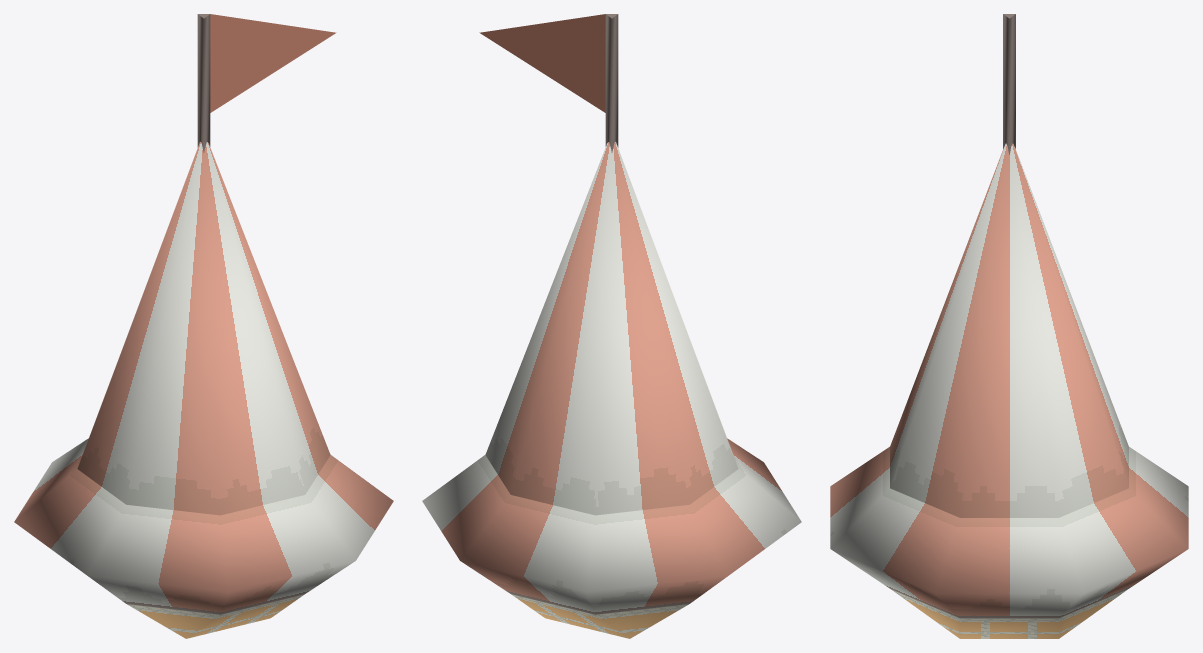
File: 0448_Flag_Buoy.glb
3 renders of one model, left to right at view 1: azimuth 30°, elevation 25°; view 2: azimuth 150°, elevation 25°; view 3: azimuth 270°, elevation 25°, orthographic.
Parts seen in each view (by area): view 1: part_0; view 2: part_0; view 3: part_0.
Part boxes in pixels (bbox=[...]): part_0: bbox=[14, 14, 393, 638]; part_0: bbox=[422, 14, 801, 638]; part_0: bbox=[830, 14, 1188, 638].
Bounding box in the file's own units: 0.8731 × 1.62 × 0.8731.
1 material, 1 textured.
